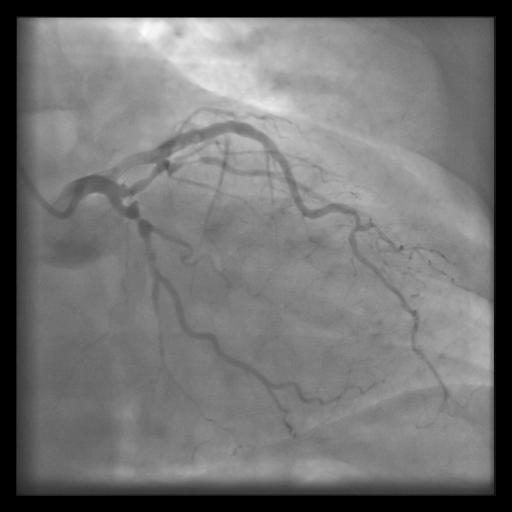Stenosis: (128, 206, 150, 234)
